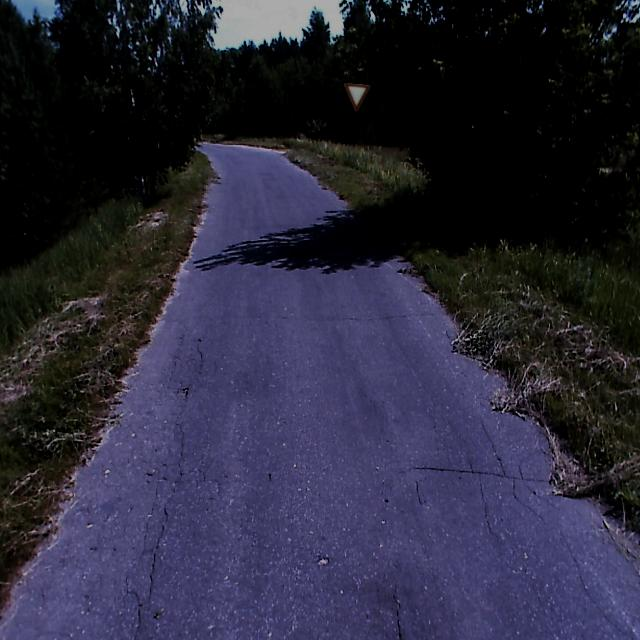road: (0, 140, 639, 639)
